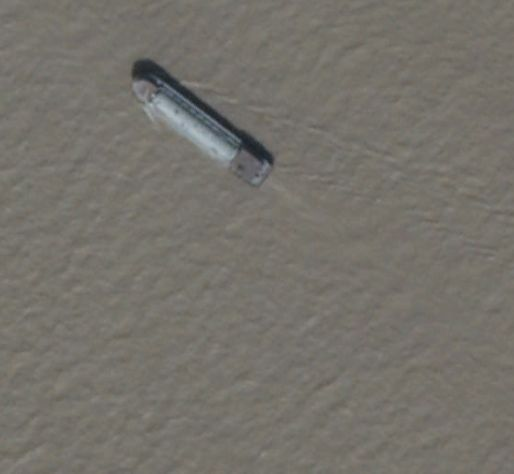boat: (128, 71, 273, 192)
